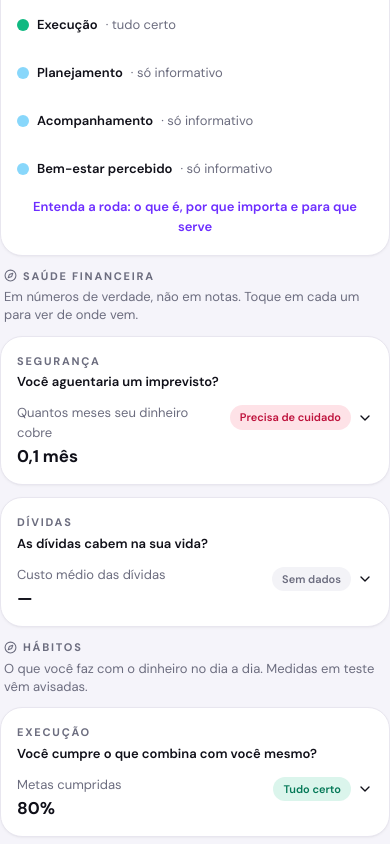
Test: MapaEntender › com acesso: mostra pilares de saúde e hábitos, expande 'de onde vem', sem pergunta quando nada está agendado
The width and height of the screenshot is (390, 844).
(page scrolled)
Check: the text "Precisa de cuidado" is shown, box 230,405 -> 351,430
Check: the text "Metas cumpridas" is shown, box 17,775 -> 122,794
Click the text "Quantos meses seu dinheiro cobre". click: (117, 423)
box: 17,403 -> 218,442
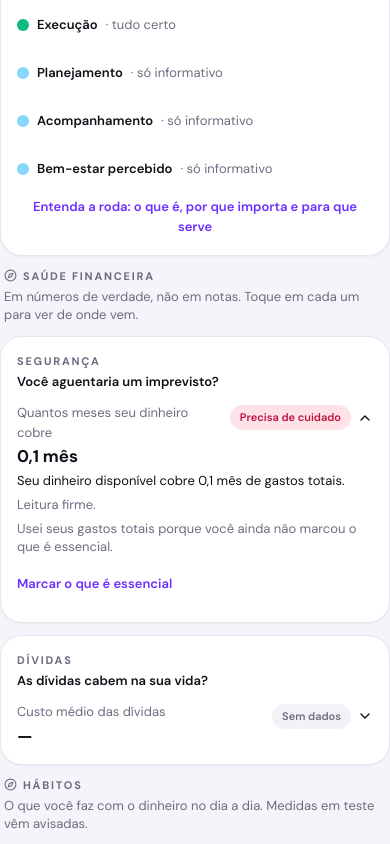
Check: the text "ainda não marcou o que é essencial" is shown, box 17,520 -> 356,555
